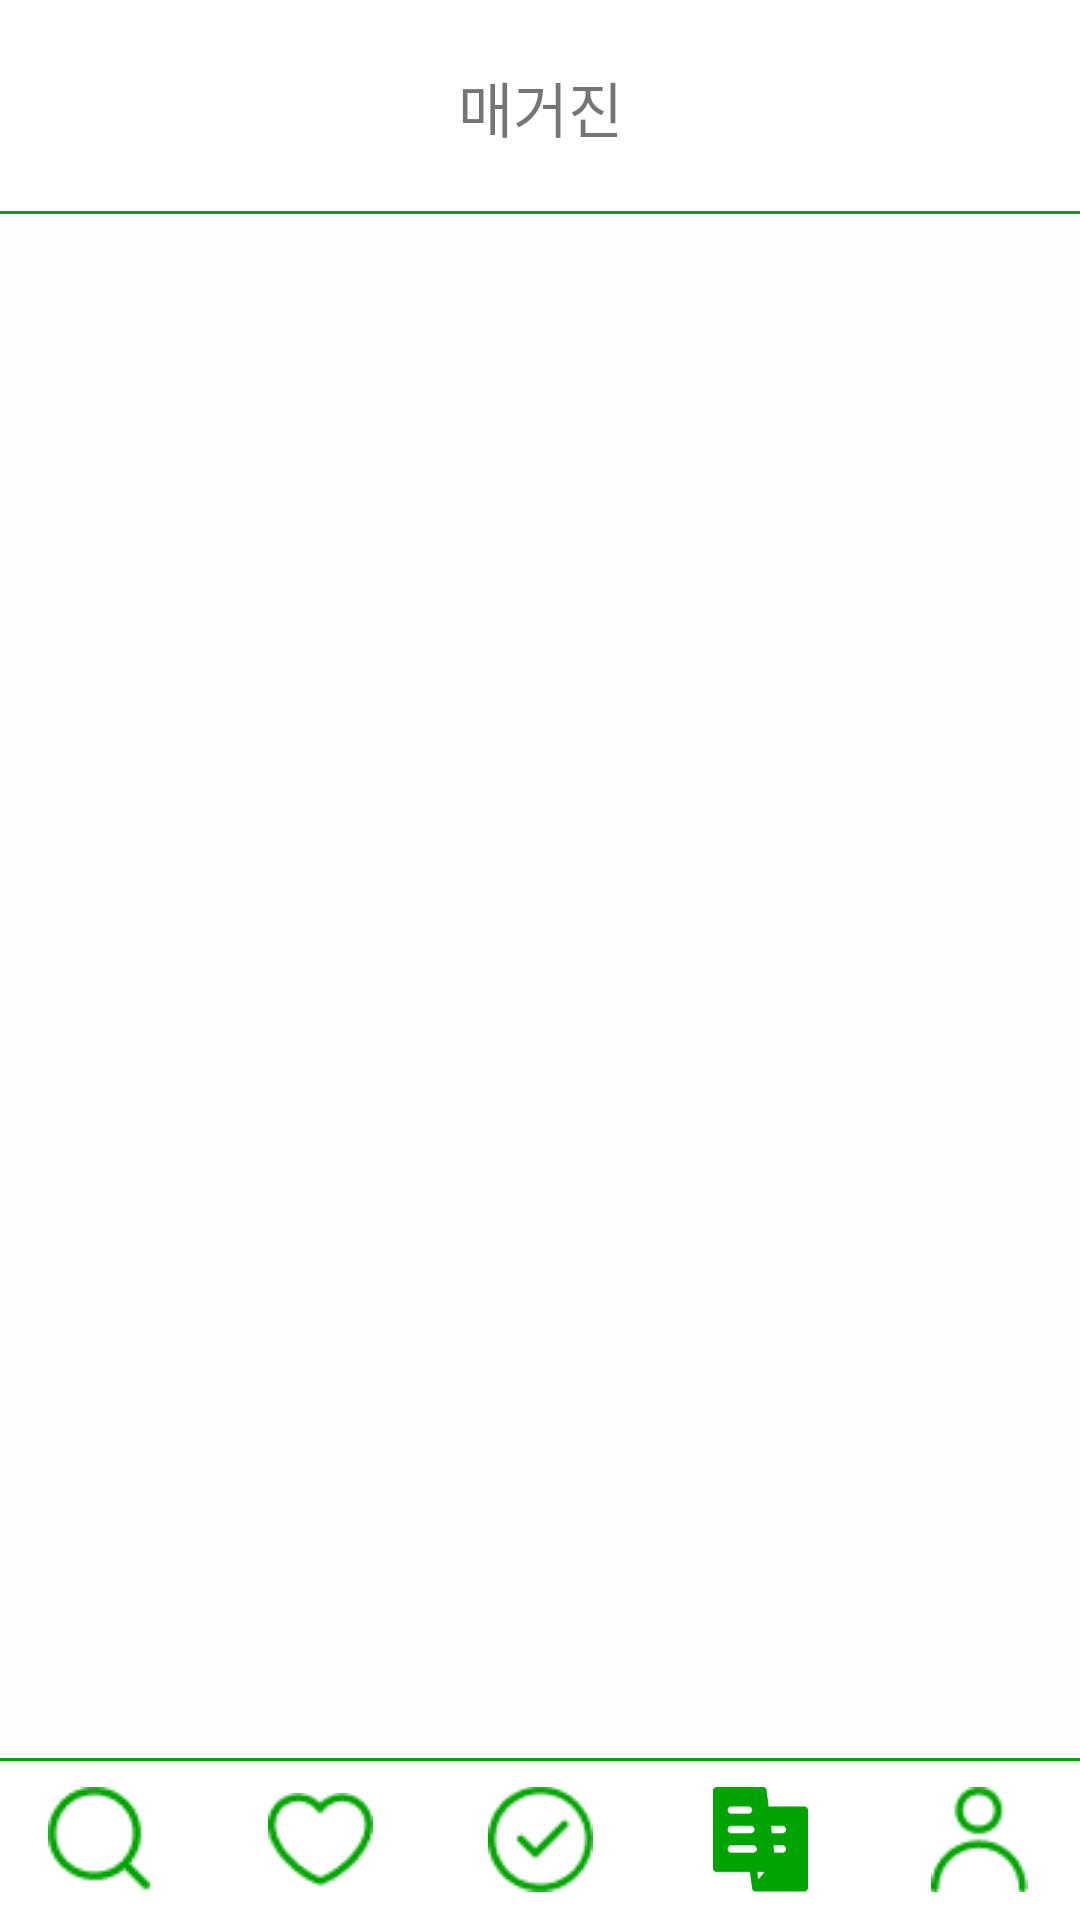

Named icons in this screenshot (1080×1920) and their centers, (x,y):
offcheck: (540,1839)
offheart: (320,1839)
offprofile: (979,1839)
offsearch: (99,1838)
